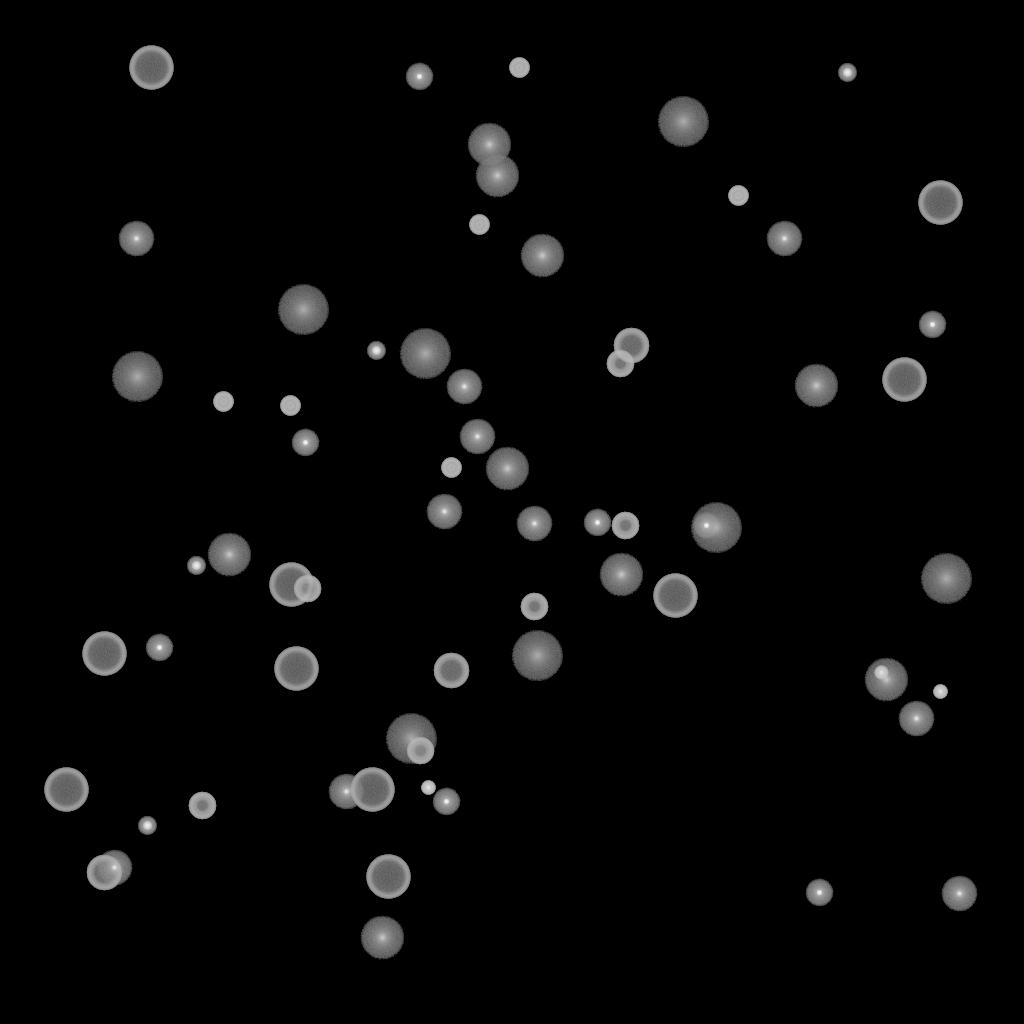depth:-10: (432, 788, 460, 816), (692, 512, 720, 540), (291, 429, 319, 457), (405, 63, 433, 91), (583, 509, 611, 537), (918, 311, 946, 339), (145, 634, 173, 662), (805, 879, 833, 907)
depth:-20: (187, 557, 205, 575), (838, 64, 856, 82), (138, 817, 156, 835), (367, 342, 385, 360)
depth:-30: (874, 666, 888, 680), (933, 685, 947, 699), (421, 781, 435, 795)
depth:-40: (441, 458, 461, 478), (469, 215, 489, 235), (509, 58, 529, 78), (213, 392, 233, 412), (280, 396, 300, 416), (728, 186, 748, 206)
depth:-50: (520, 593, 548, 621), (611, 512, 639, 540), (406, 737, 434, 765), (293, 575, 321, 603), (606, 350, 634, 378), (188, 792, 216, 820)
depth:-60: (433, 653, 469, 689), (86, 855, 122, 891), (613, 328, 649, 364)
depth:-70: (44, 768, 88, 812), (882, 358, 926, 402), (82, 632, 126, 676), (653, 574, 697, 618), (918, 181, 962, 225), (350, 768, 394, 812), (274, 647, 318, 691), (269, 563, 313, 607), (129, 46, 173, 90), (366, 855, 410, 899)
depth:0: (941, 876, 977, 912), (516, 506, 552, 542), (328, 774, 364, 810), (766, 221, 802, 257), (96, 850, 132, 886), (118, 221, 154, 257), (898, 701, 934, 737), (446, 369, 482, 405), (426, 494, 462, 530), (459, 419, 495, 455)
depth:10: (864, 658, 908, 702), (207, 533, 251, 577), (467, 123, 511, 167), (475, 154, 519, 198), (794, 364, 838, 408), (360, 916, 404, 960), (599, 553, 643, 597), (520, 234, 564, 278), (485, 447, 529, 491)
depth:20: (277, 285, 329, 335), (385, 714, 437, 764), (690, 503, 742, 553), (920, 554, 972, 604), (111, 352, 163, 402), (511, 631, 563, 681), (657, 97, 709, 147), (399, 329, 451, 379)
